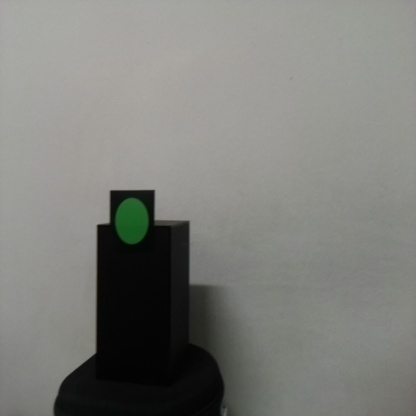id_5: (109, 190, 155, 257)
